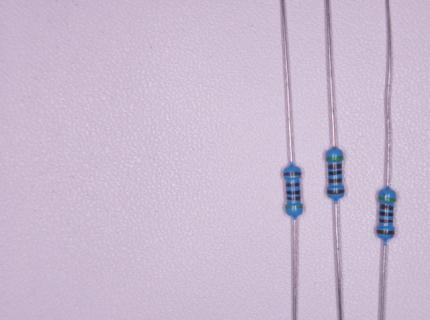Black band: (287, 190, 300, 195), (380, 212, 393, 217), (329, 171, 342, 175)
Brown band: (380, 204, 394, 211), (283, 171, 301, 176), (327, 189, 345, 194), (377, 230, 395, 235), (287, 196, 300, 201), (328, 164, 341, 169), (329, 178, 342, 183), (286, 183, 300, 187), (379, 219, 393, 223)
Green band: (378, 197, 397, 202), (286, 205, 302, 209), (327, 156, 343, 160)
